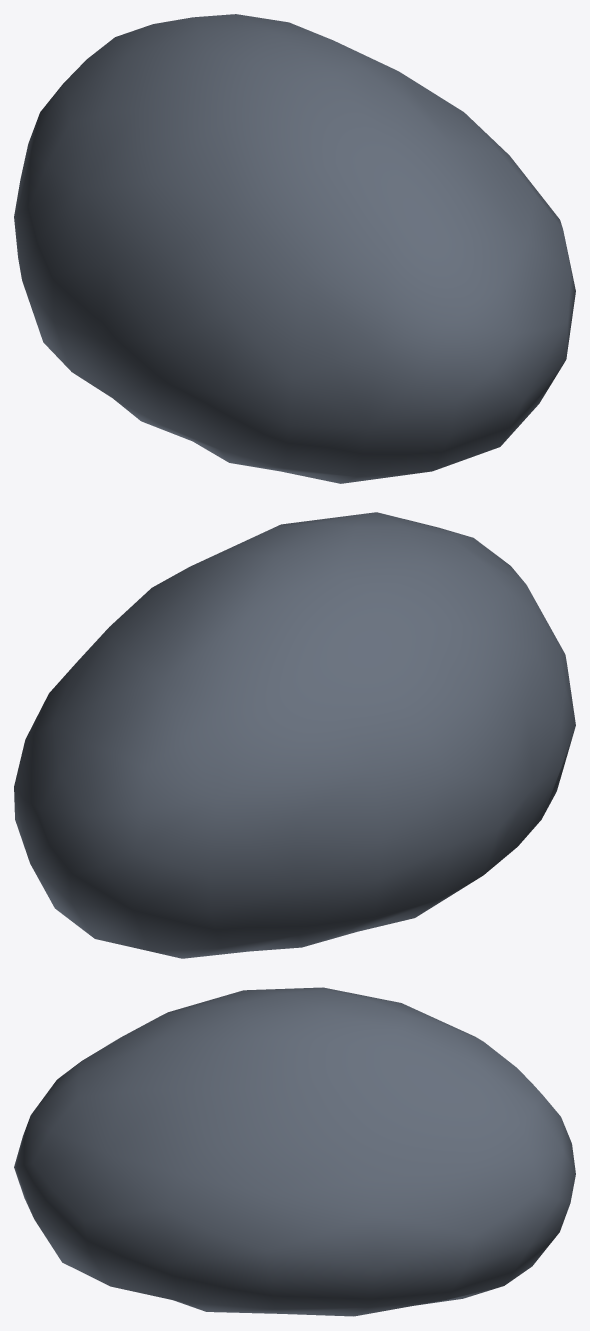
Rendered from RockMedium.fbx.
3 renders of one model, top to bottom at view 1: azimuth 30°, elevation 25°; view 2: azimuth 150°, elevation 25°; view 3: azimuth 270°, elevation 25°, orthographic. The views are drawn at different scales.
Visible parts, largest first — view 1: RockMedium; view 2: RockMedium; view 3: RockMedium.
Boxes of the visible parts, x1,y1,x2,y2 form: RockMedium: (14, 14, 575, 483); RockMedium: (14, 512, 575, 958); RockMedium: (14, 987, 575, 1316).
Bounding box in the file's own units: 75.03 × 54.93 × 105.
